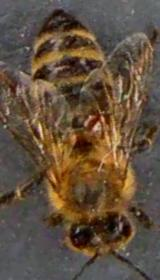varroa_mite: (84, 108, 112, 138)
